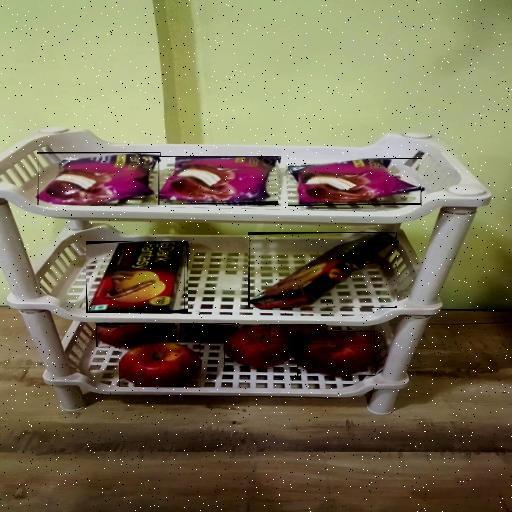Apple: (120, 342, 200, 386), (298, 332, 375, 376), (225, 327, 297, 367), (96, 323, 173, 347), (272, 324, 326, 344), (181, 323, 239, 341)
Choco Fills: (250, 233, 395, 308), (89, 241, 185, 313)
Choco Pie: (38, 153, 160, 205), (289, 159, 421, 205), (160, 156, 278, 204)
